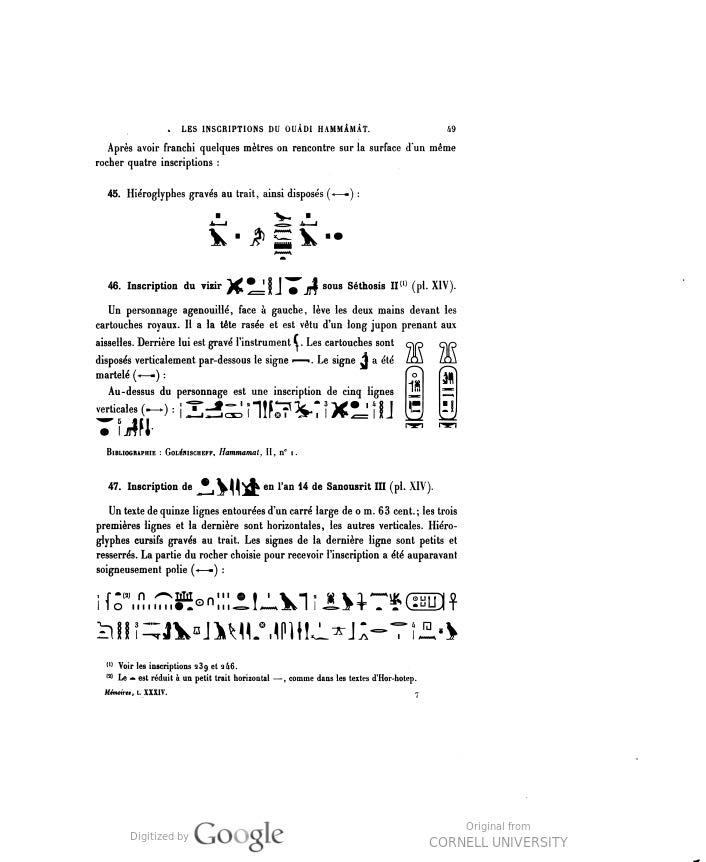circle: (427, 363, 470, 435), (400, 363, 432, 435), (401, 586, 460, 615)
